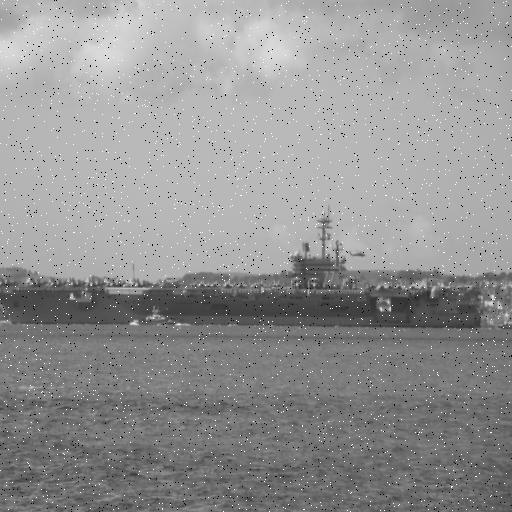Portanaves: (1, 199, 489, 331)
